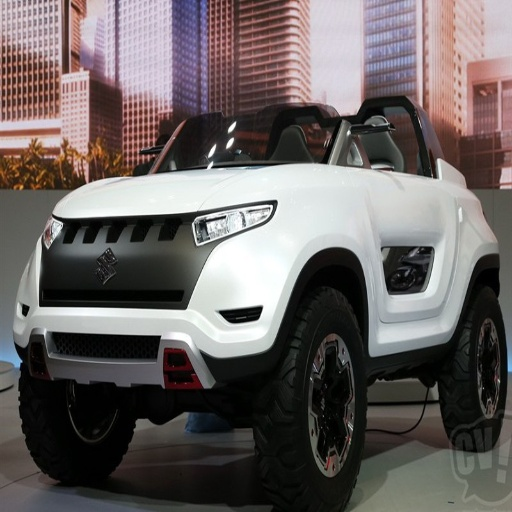front_bumper: (25, 212, 287, 390)
trunk: (277, 170, 484, 329)
